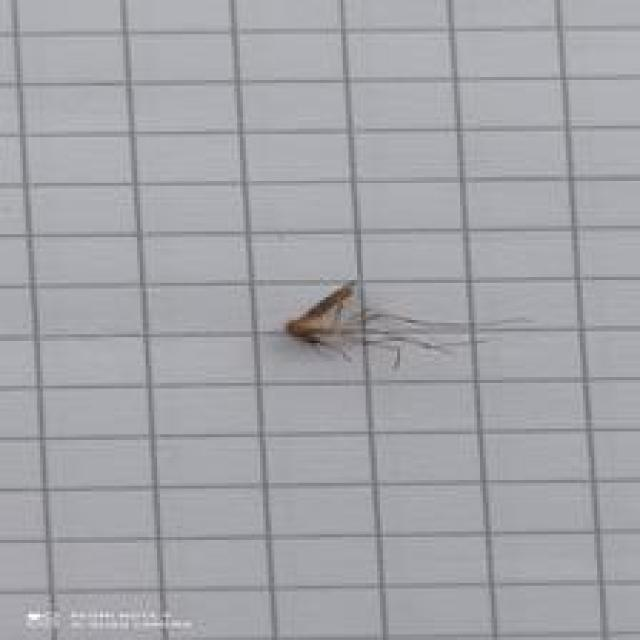Culex: (284, 277, 530, 369)
